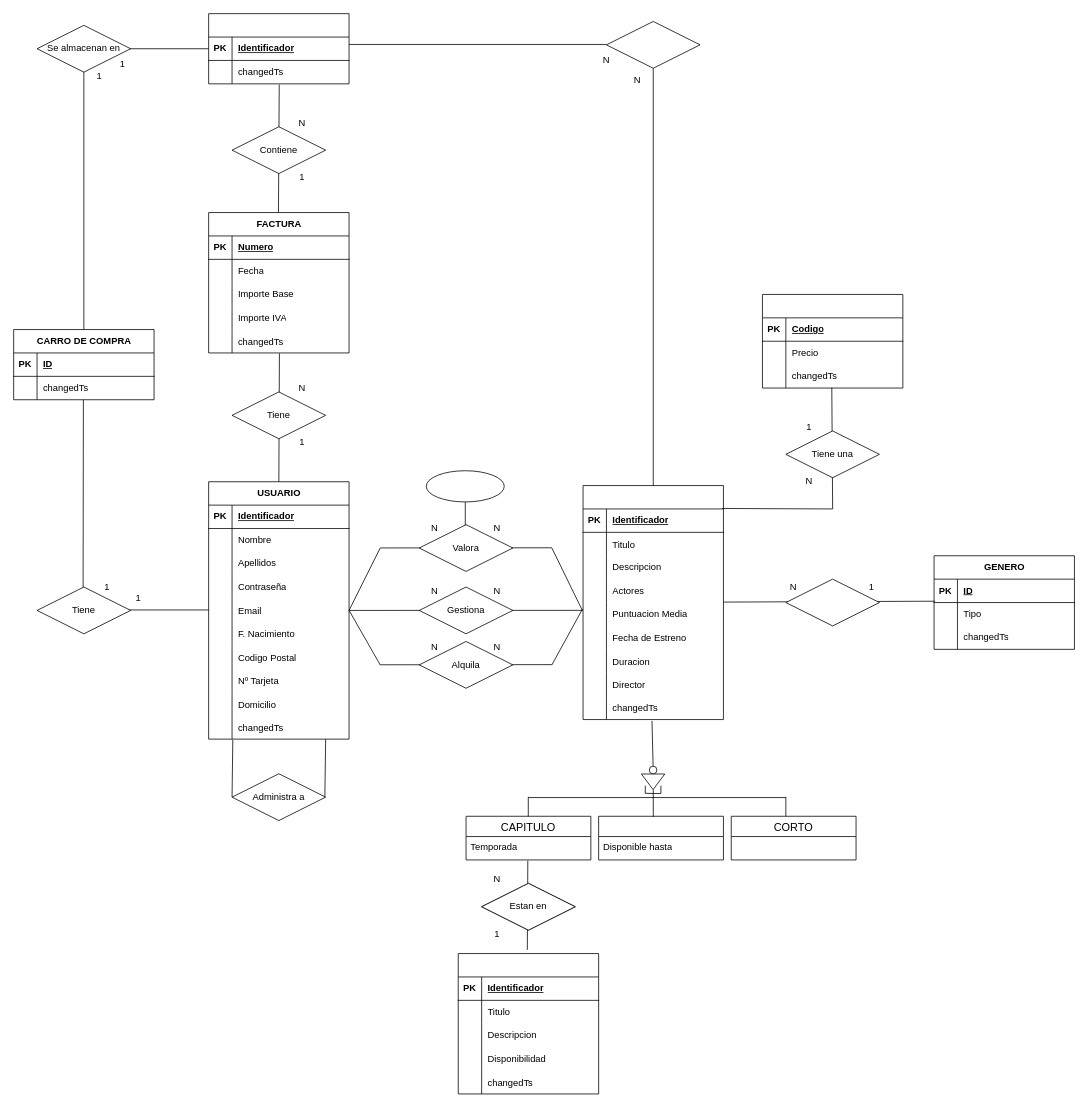
Image size: 1088x1108. Some labels were removed from this diagram. Each missing label, with the box of its shape:
Articulos a Facturar: (606, 21, 700, 68)
CONTENIDO: (582, 485, 723, 720)
LINEAS DE FACTURA: (208, 13, 349, 84)
PELICULA: (598, 815, 723, 860)
Pertenece a: (785, 578, 879, 626)
Puntos: (425, 470, 504, 502)
SERIE: (457, 953, 599, 1094)
TARIFA: (762, 294, 903, 388)
